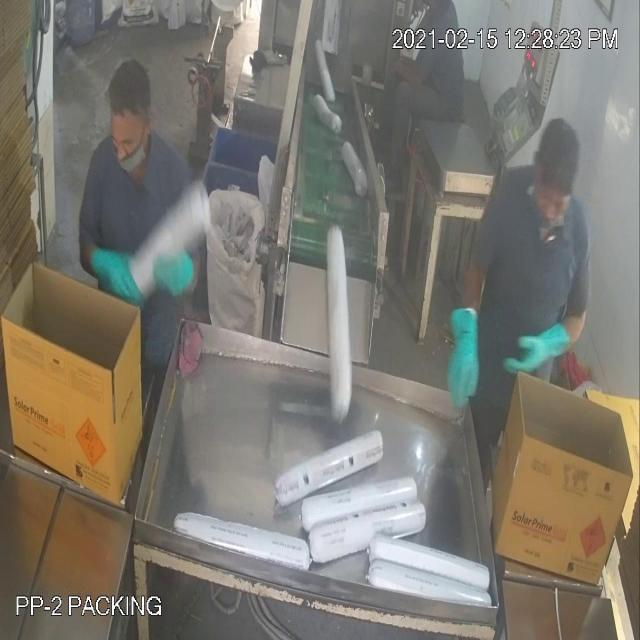Gloves: (39, 66, 545, 349)
